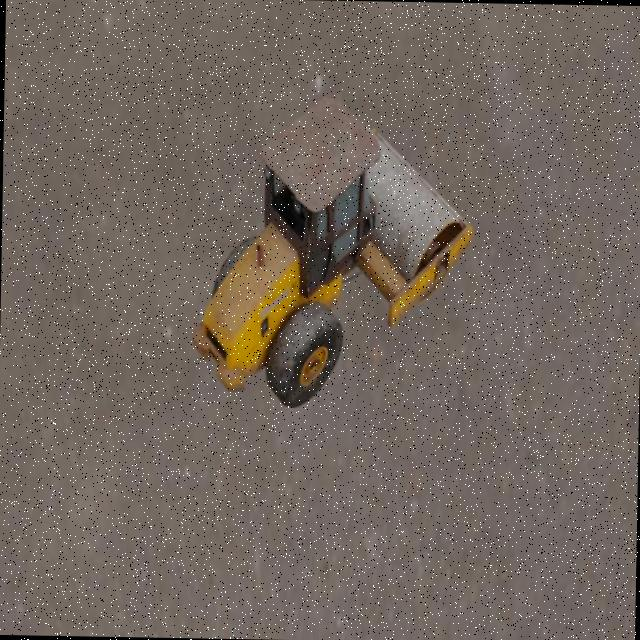Roller: (190, 94, 474, 410)
